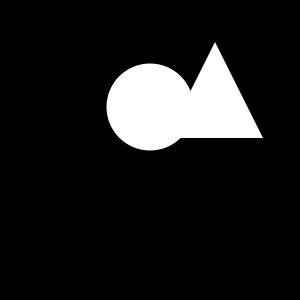rectangle: (106, 64, 194, 150)
triangle: (167, 42, 263, 138)
